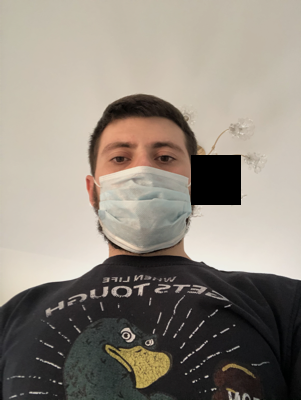with_mask: (95, 134, 192, 253)
